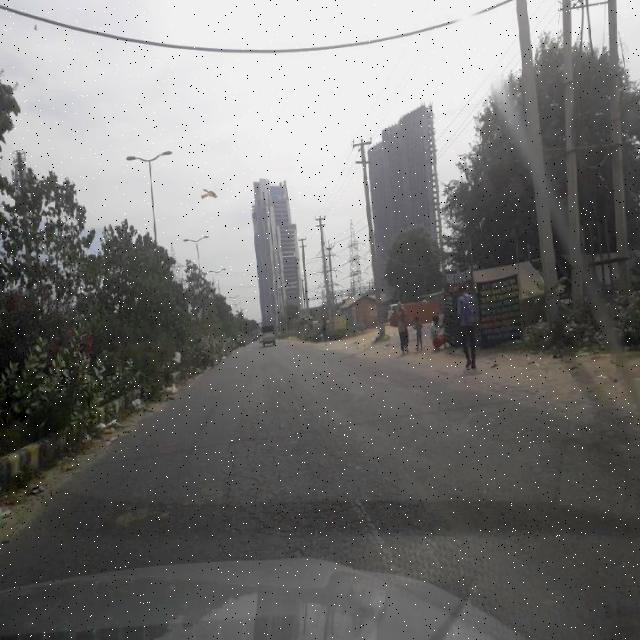D20: (196, 396, 454, 560)
D44: (348, 485, 402, 567)
